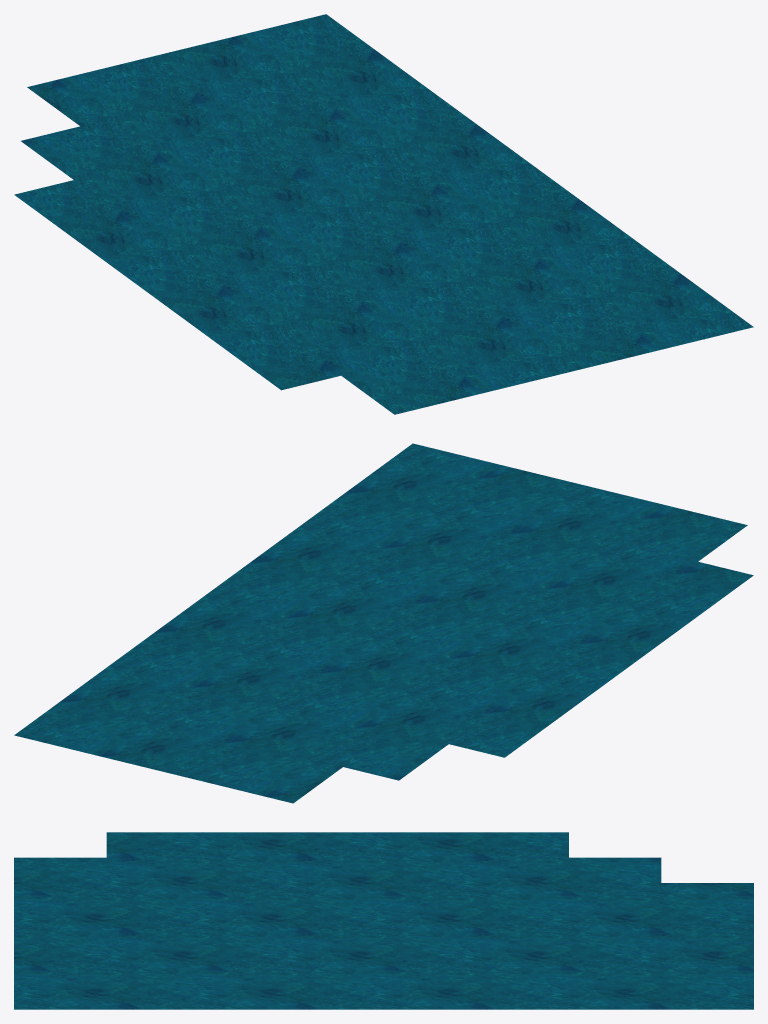
Rendered from water.glb.
The picture shows the model from 3 angles, top to bottom: view 1: azimuth 30°, elevation 25°; view 2: azimuth 150°, elevation 25°; view 3: azimuth 270°, elevation 25°; orthographic projection. The views are drawn at different scales.
Visible parts, largest first — view 1: sea.jpg__; view 2: sea.jpg__; view 3: sea.jpg__.
Boxes of the visible parts, <box> form: sea.jpg__: <box>14,14,753,414</box>; sea.jpg__: <box>14,443,753,803</box>; sea.jpg__: <box>14,832,753,1009</box>.
Bounding box in the file's own units: 101 × 0 × 178.
Materials: 1 (1 with a texture image).
